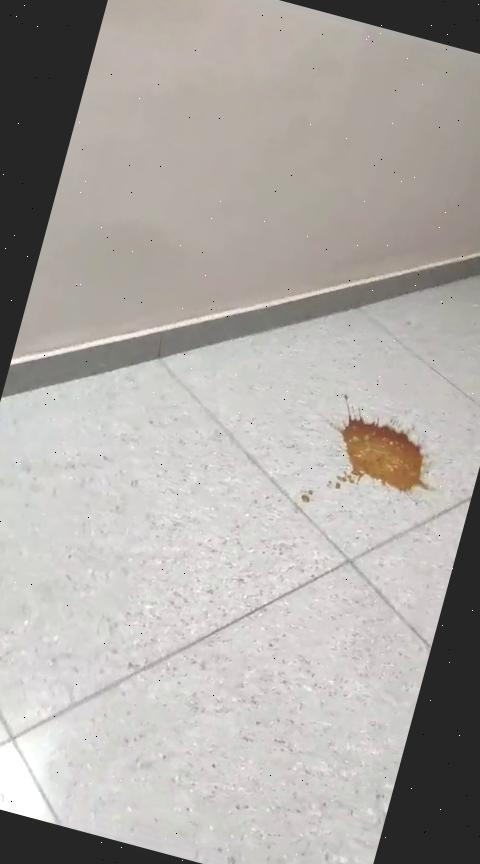dirty_floor: (308, 394, 451, 534)
